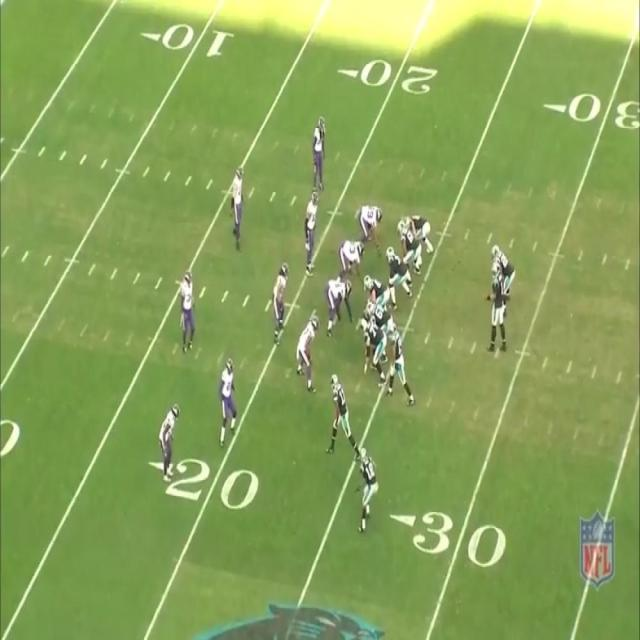center: (366, 275, 385, 305)
db: (180, 271, 199, 354), (304, 118, 329, 180), (161, 404, 179, 479), (220, 360, 237, 439), (233, 167, 244, 249)
lb: (268, 262, 288, 342), (306, 194, 317, 262)
qb: (488, 260, 508, 351)
